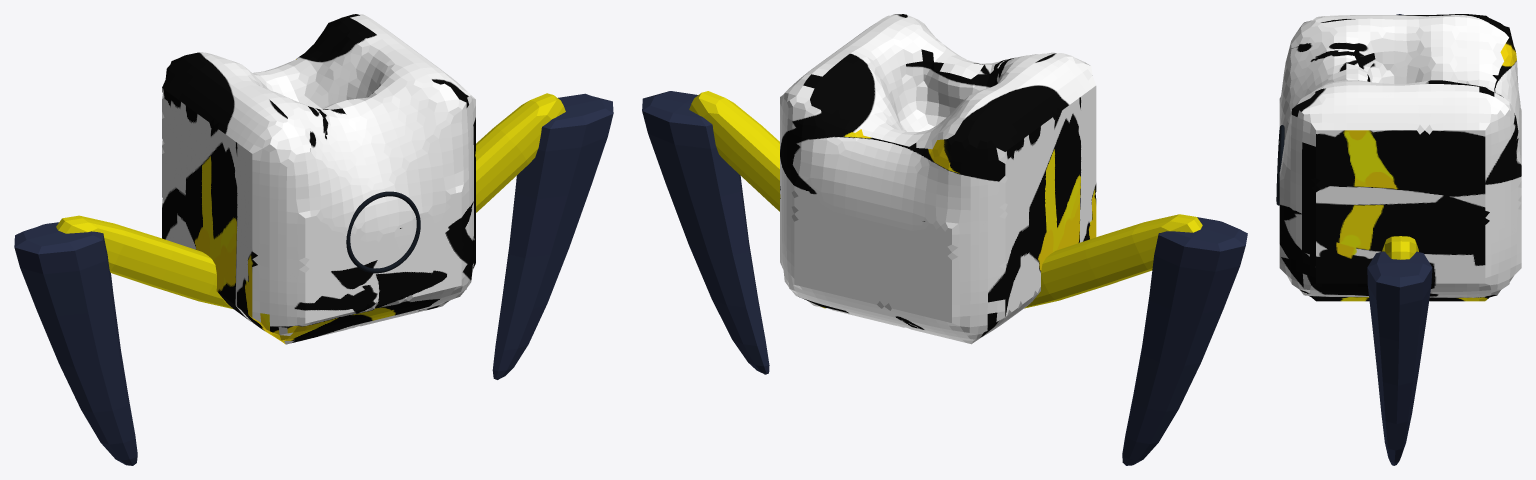
3 views of the same model, side by side, from view 1: azimuth 30°, elevation 25°; view 2: azimuth 150°, elevation 25°; view 3: azimuth 270°, elevation 25° (orthographic). The views are drawn at different scales.
Parts seen in each view (by area): view 1: Cube, Куб.003, Куб.002, Куб.001, Куб, Torus; view 2: Cube, Куб.002, Куб.003, Куб.001, Куб; view 3: Cube, Куб.002, Куб, Torus.
Part boxes in pixels (left/top/right/bottom): Cube: left=162, top=14, right=475, bottom=344; Куб.003: left=14, top=222, right=137, bottom=465; Куб.002: left=492, top=93, right=613, bottom=379; Куб.001: left=56, top=215, right=232, bottom=308; Куб: left=475, top=93, right=565, bottom=212; Torus: left=346, top=191, right=420, bottom=273; Cube: left=780, top=14, right=1096, bottom=344; Куб.002: left=642, top=91, right=769, bottom=374; Куб.003: left=1122, top=217, right=1247, bottom=465; Куб.001: left=1024, top=214, right=1202, bottom=308; Куб: left=689, top=91, right=780, bottom=211; Cube: left=1279, top=14, right=1521, bottom=301; Куб.002: left=1367, top=251, right=1432, bottom=465; Куб: left=1382, top=236, right=1418, bottom=259; Torus: left=1276, top=125, right=1284, bottom=205.
Bounding box in the file's own units: 535 × 306 × 203.
